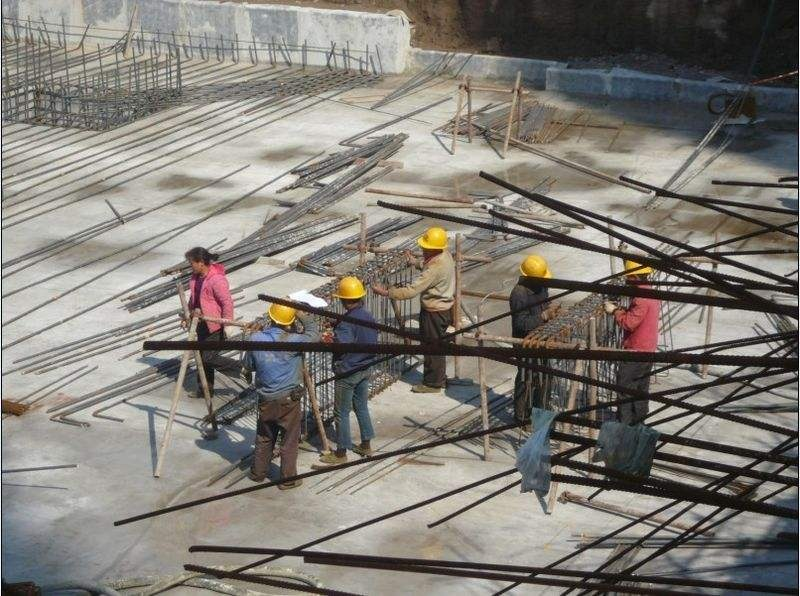none: (184, 244, 214, 275)
yellow: (518, 255, 552, 291), (264, 299, 298, 332), (333, 275, 365, 310), (418, 227, 449, 261), (622, 254, 652, 288)
